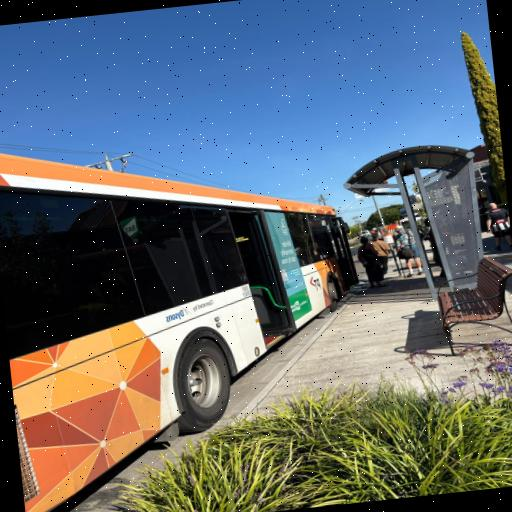clear_path: (257, 271, 434, 413)
platform_edge: (230, 281, 364, 421)
signage: (379, 209, 402, 278)
